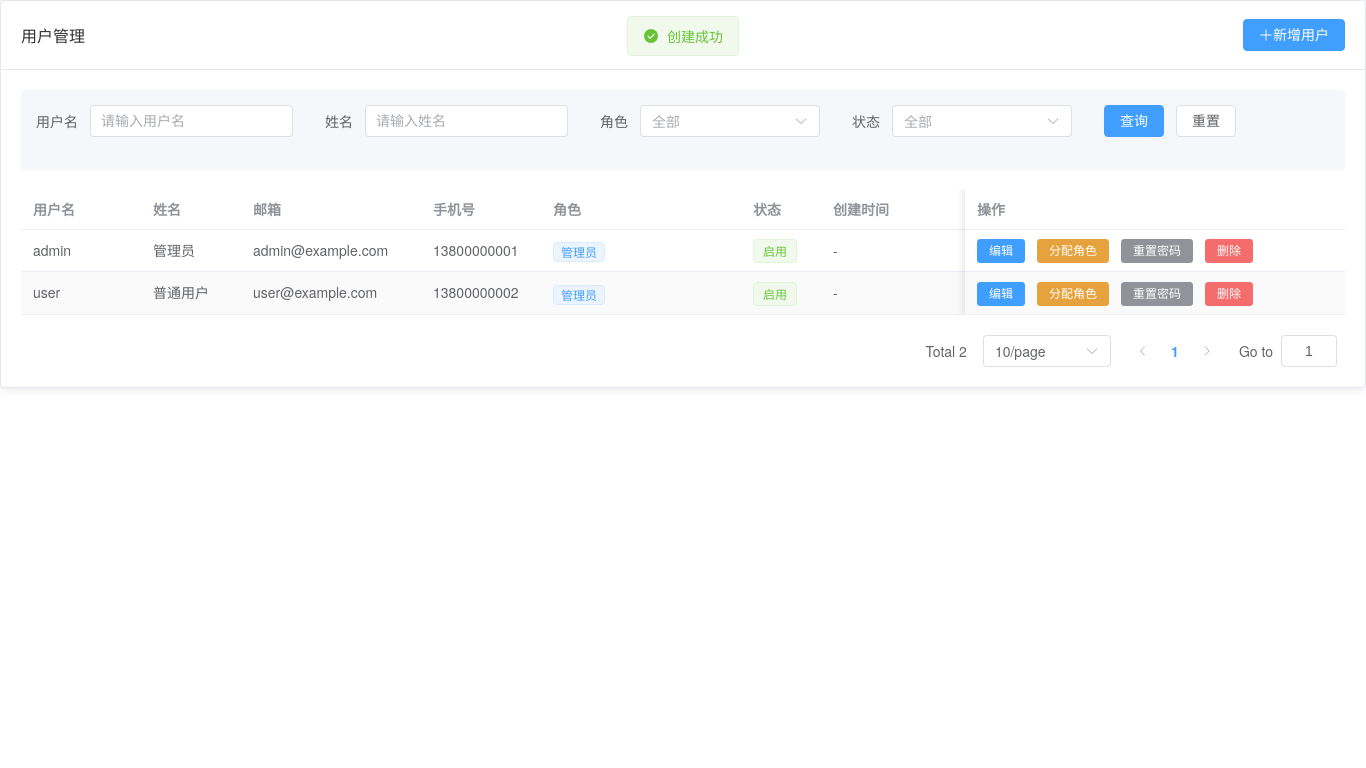
UserManagement.vue › Submit_MissingUsername_Blocked：用户名留空被拦截且弹窗保持打开
The width and height of the screenshot is (1366, 768).
Click the button "新增用户" at (1294, 35), box [1243,19,1345,51]
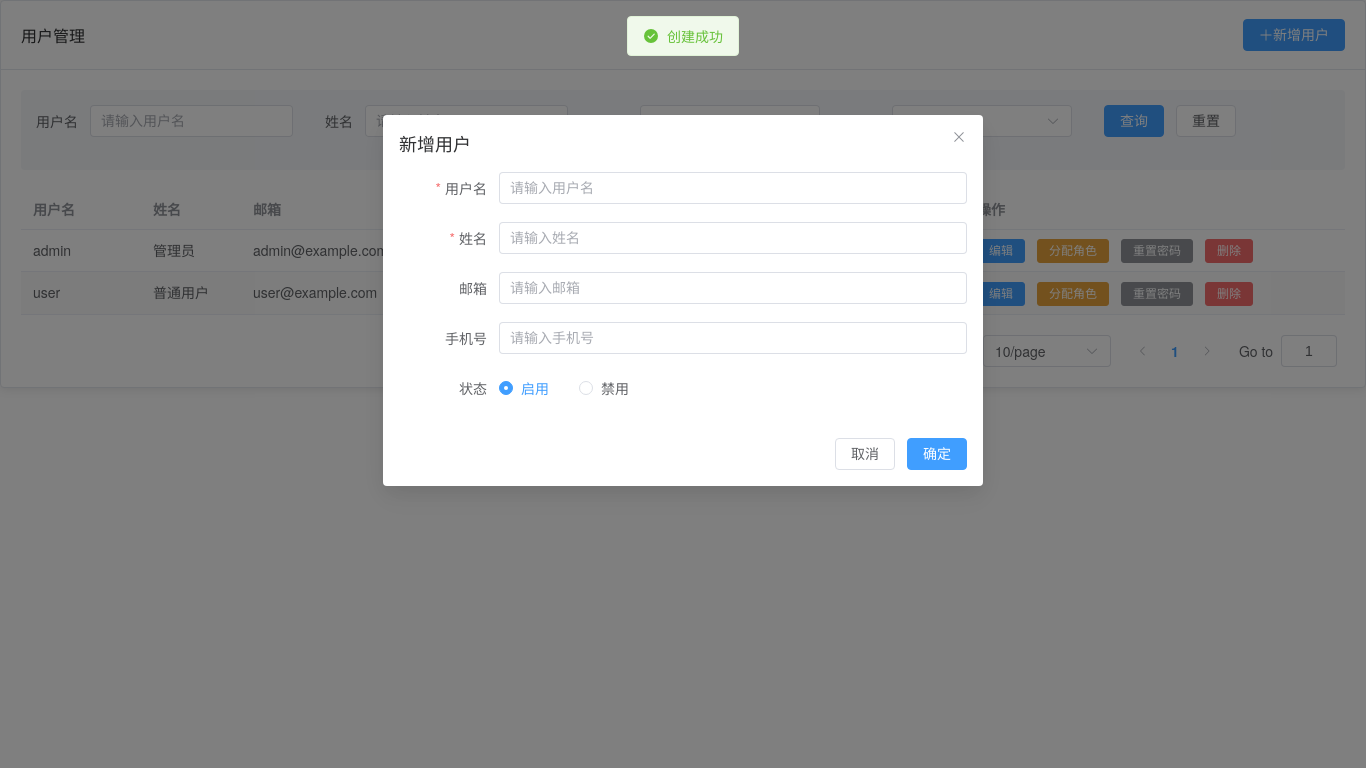
Type "张三" into the field with id "realName" at (733, 238), box [510,223,956,253]
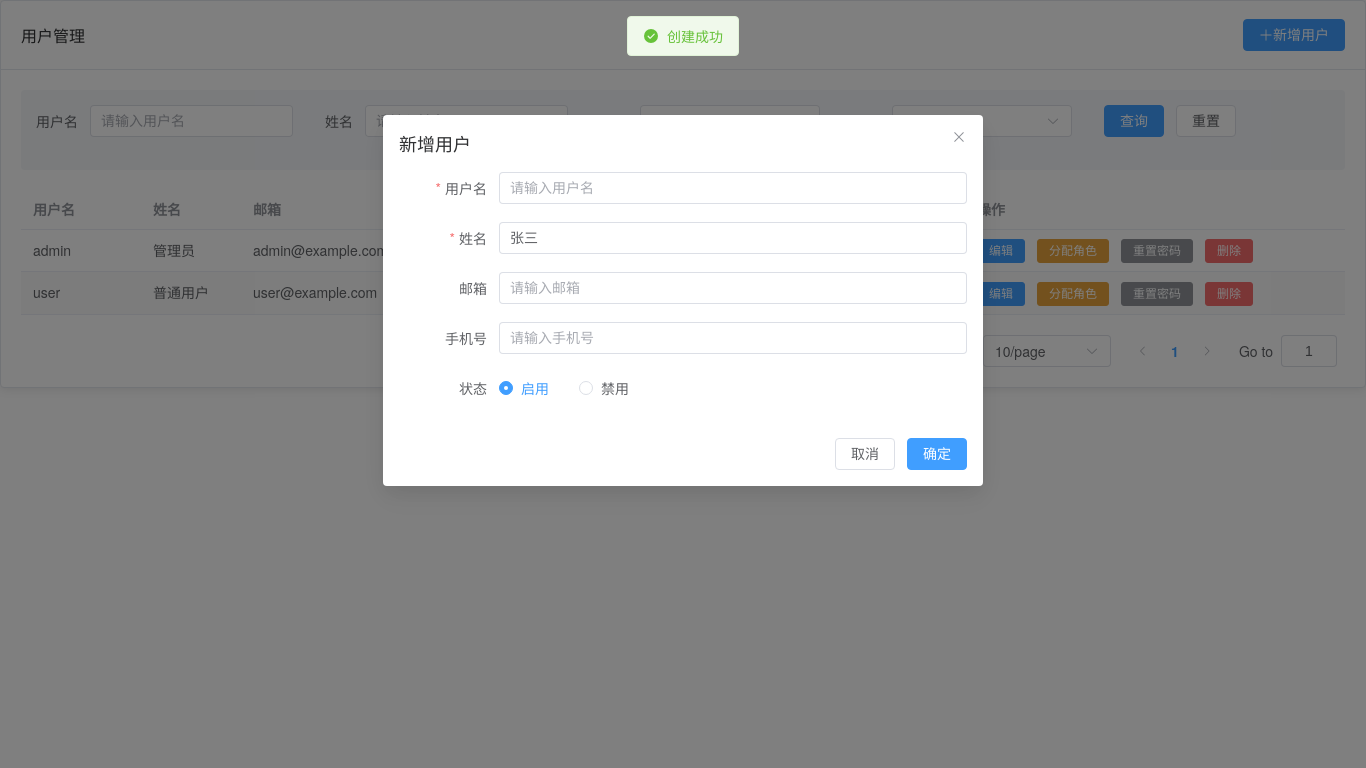
Now the button "确定" is shown
Click the button "确定" at (937, 454), box [907,438,967,470]
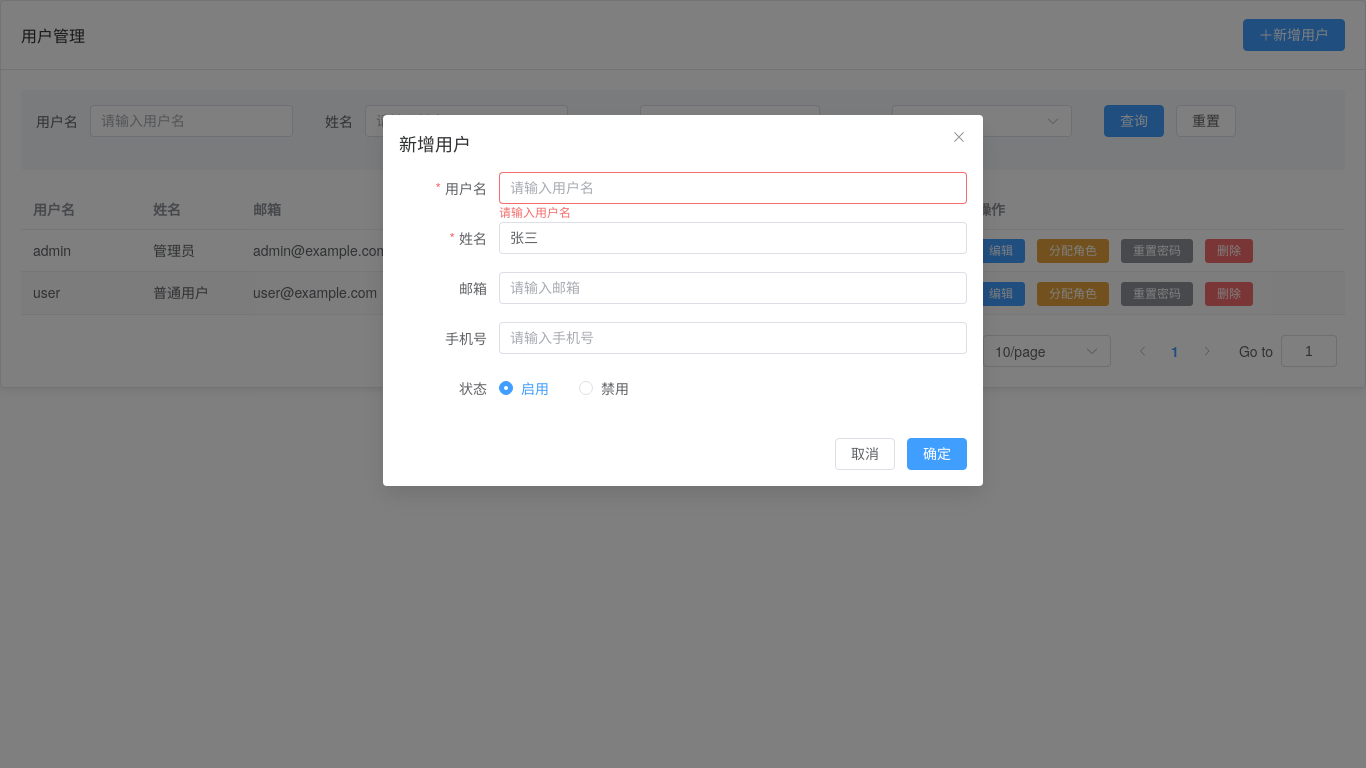
Now the text "请输入用户名" is shown, box [499,204,571,218]
